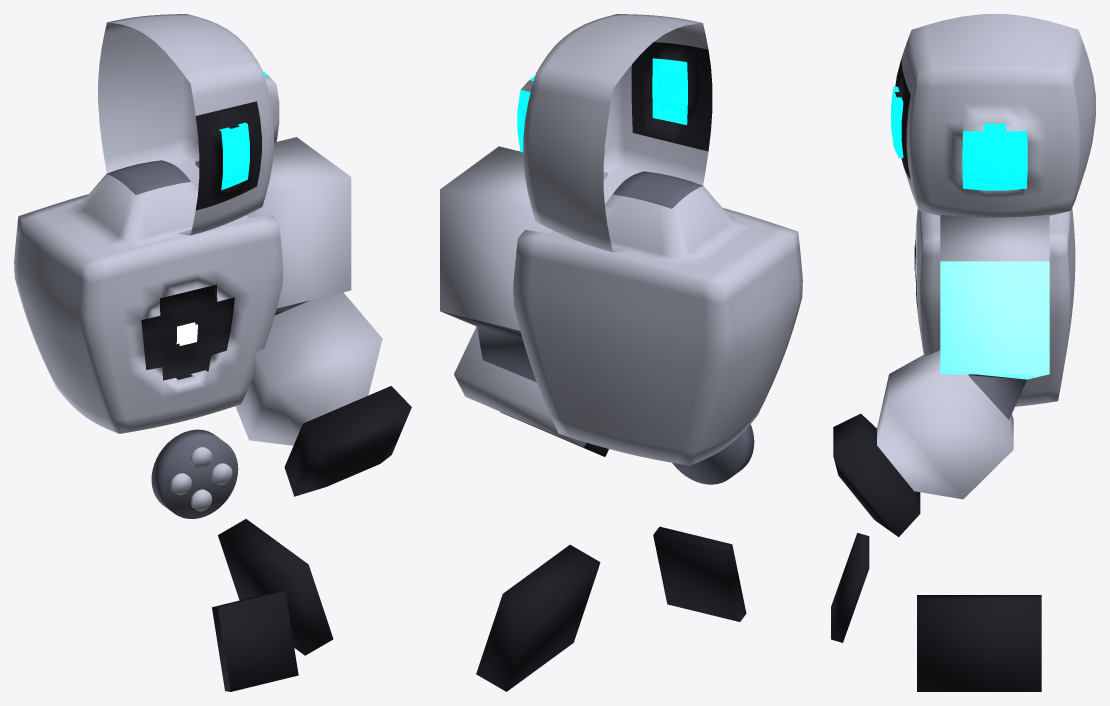
The model's file is robonew.glb.
The picture shows the model from 3 angles, left to right: view 1: azimuth 30°, elevation 25°; view 2: azimuth 150°, elevation 25°; view 3: azimuth 270°, elevation 25°; orthographic projection. The views are drawn at different scales.
Parts seen in each view (by area): view 1: Robo_Torso, Robo_Bracos, Robo_Cabeca, Robo_Placa, Robo_Painel; view 2: Robo_Torso, Robo_Cabeca, Robo_Bracos, Robo_Placa, Robo_Painel; view 3: Robo_Bracos, Robo_Cabeca, Robo_Placa, Robo_Torso.
Boxes of the visible parts, x1,y1,x2,y2 form: Robo_Torso: [14, 160, 283, 433]; Robo_Bracos: [195, 137, 411, 496]; Robo_Cabeca: [98, 14, 279, 235]; Robo_Placa: [212, 519, 333, 691]; Robo_Painel: [151, 429, 238, 518]; Robo_Torso: [513, 171, 802, 465]; Robo_Cabeca: [517, 14, 712, 252]; Robo_Bracos: [440, 146, 608, 456]; Robo_Placa: [476, 526, 746, 691]; Robo_Painel: [672, 424, 754, 484]; Robo_Bracos: [833, 214, 1049, 536]; Robo_Cabeca: [891, 14, 1095, 217]; Robo_Placa: [831, 533, 1041, 691]; Robo_Torso: [914, 208, 1075, 406].
Size of the model in its own units: 0.8781 by 1.73 by 0.6717.
